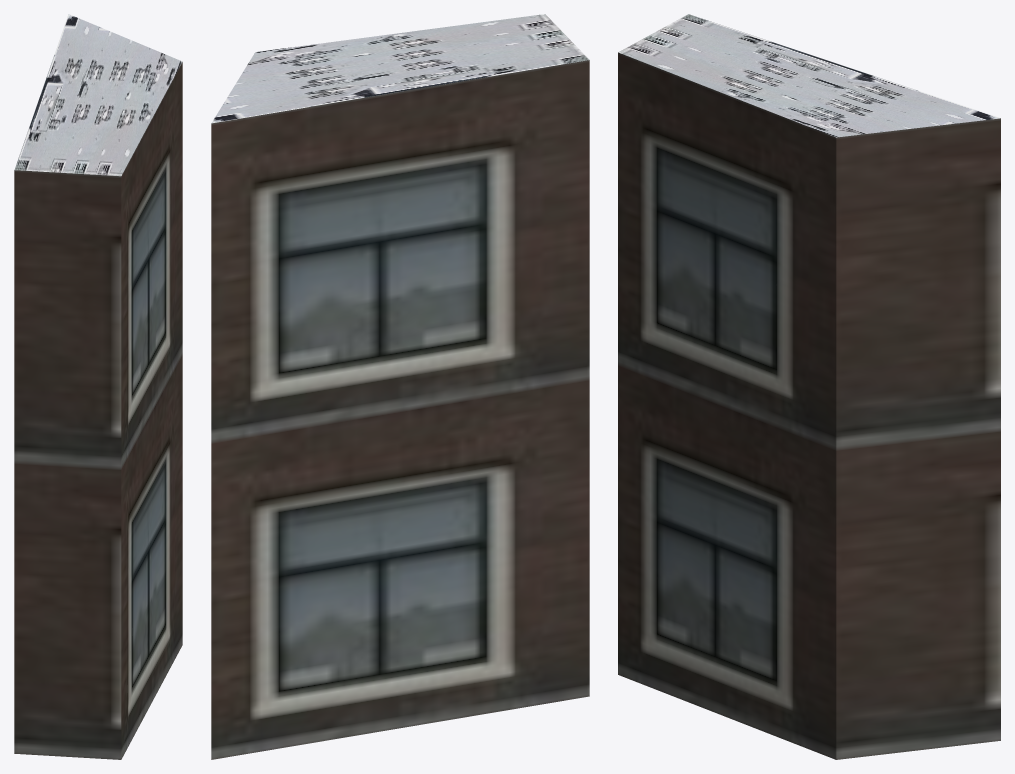
The model's file is ResTex__4319.fbx.
The picture shows the model from 3 angles, left to right: view 1: azimuth 30°, elevation 25°; view 2: azimuth 150°, elevation 25°; view 3: azimuth 270°, elevation 25°; orthographic projection. The views are drawn at different scales.
Parts seen in each view (by area): view 1: CityEngineMaterial_16_m, CityEngineMaterial_15_m; view 2: CityEngineMaterial_16_m, CityEngineMaterial_15_m; view 3: CityEngineMaterial_16_m, CityEngineMaterial_15_m.
Boxes of the visible parts, <box> form: CityEngineMaterial_16_m: <box>14,62,182,759</box>; CityEngineMaterial_15_m: <box>14,14,182,176</box>; CityEngineMaterial_16_m: <box>211,60,589,759</box>; CityEngineMaterial_15_m: <box>212,14,589,123</box>; CityEngineMaterial_16_m: <box>618,52,1000,759</box>; CityEngineMaterial_15_m: <box>618,14,999,137</box>.
Bounding box in the file's own units: 2.55 × 6 × 3.34.
2 materials, 2 textured.
